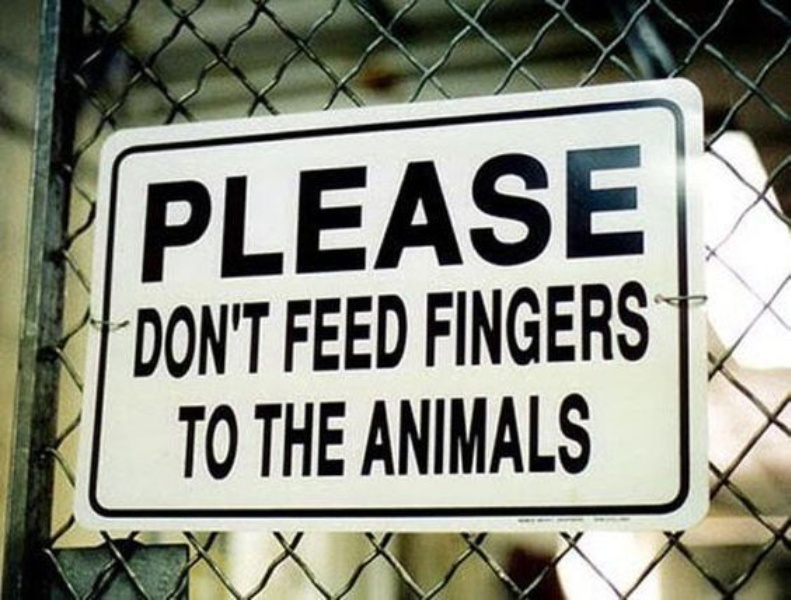text: (161, 143, 176, 285), (177, 143, 192, 285), (193, 143, 208, 285), (209, 143, 224, 285), (225, 143, 240, 285), (241, 143, 256, 285), (257, 143, 272, 285), (273, 143, 288, 285), (289, 143, 304, 285), (305, 143, 320, 285), (321, 143, 336, 285), (337, 143, 352, 285), (353, 143, 368, 285), (369, 143, 384, 285), (385, 143, 400, 285), (401, 143, 416, 285), (417, 143, 432, 285), (433, 143, 448, 285), (449, 143, 464, 285), (465, 143, 480, 285), (481, 143, 496, 285), (497, 143, 512, 285), (513, 143, 528, 285), (529, 143, 544, 285), (545, 143, 560, 285), (561, 143, 576, 285), (577, 143, 592, 285), (593, 143, 608, 285), (609, 143, 624, 285), (625, 143, 640, 285), (146, 143, 160, 285), (641, 143, 651, 285), (433, 278, 448, 371), (449, 278, 464, 371), (465, 278, 480, 371), (481, 278, 496, 371), (497, 278, 512, 371), (513, 278, 528, 371), (529, 278, 544, 371), (545, 278, 560, 371), (561, 278, 576, 371), (577, 278, 592, 371), (593, 278, 608, 371), (609, 278, 624, 371), (625, 278, 640, 371), (641, 278, 655, 371), (385, 390, 400, 476), (401, 390, 416, 476), (417, 390, 432, 476), (433, 390, 448, 476), (449, 390, 464, 476), (465, 390, 480, 476), (481, 390, 496, 476), (497, 390, 512, 476), (513, 390, 528, 476), (529, 390, 544, 476), (545, 390, 560, 476), (561, 390, 576, 476), (577, 390, 592, 476), (145, 299, 160, 379), (161, 299, 176, 379), (177, 299, 192, 379), (193, 299, 208, 379), (209, 299, 224, 379), (225, 299, 240, 379), (241, 299, 256, 379), (289, 293, 304, 373), (305, 293, 320, 373), (321, 293, 336, 373), (337, 293, 352, 373), (353, 293, 368, 373), (369, 293, 384, 373), (385, 293, 400, 373), (257, 399, 272, 479), (273, 399, 288, 479), (289, 399, 304, 479), (305, 399, 320, 479), (321, 399, 336, 479), (193, 403, 208, 480), (209, 403, 224, 480), (225, 403, 240, 480), (257, 299, 271, 379), (179, 403, 192, 480), (337, 399, 348, 479), (374, 390, 384, 476), (401, 293, 411, 373), (135, 299, 144, 379), (425, 278, 432, 371), (253, 399, 256, 479), (287, 293, 288, 373)
